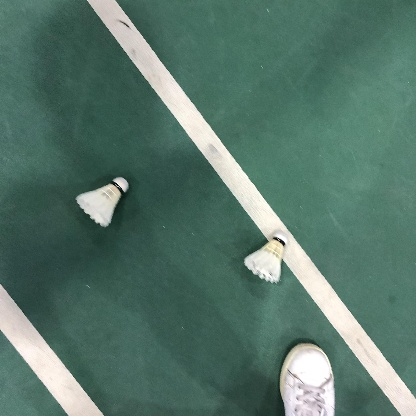ball_single: (76, 177, 129, 227), (244, 231, 287, 284)
